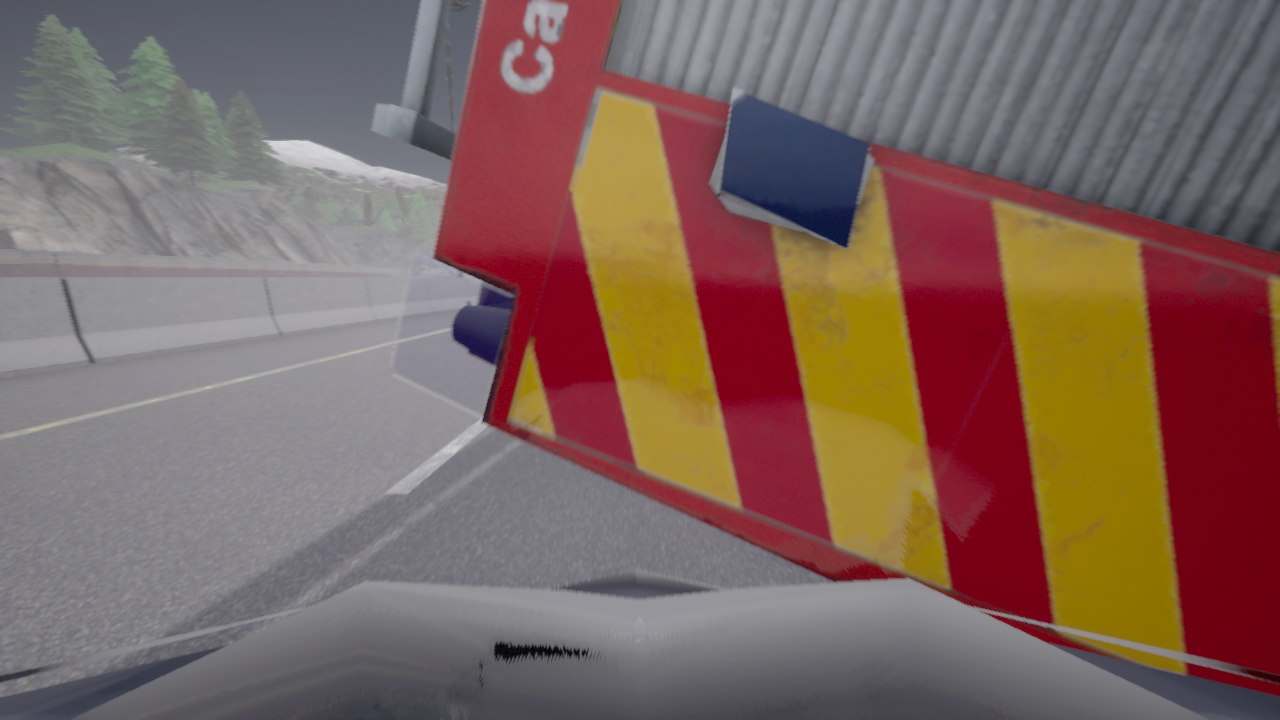cyclist: (373, 0, 1279, 696), (0, 569, 1279, 719)
